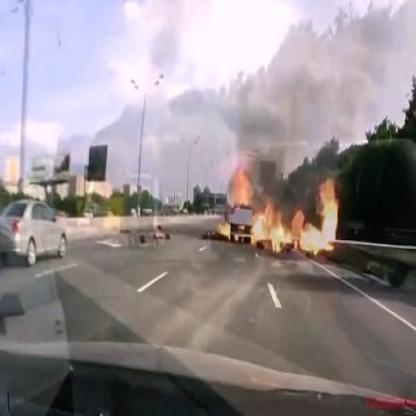fire: (217, 162, 340, 260)
